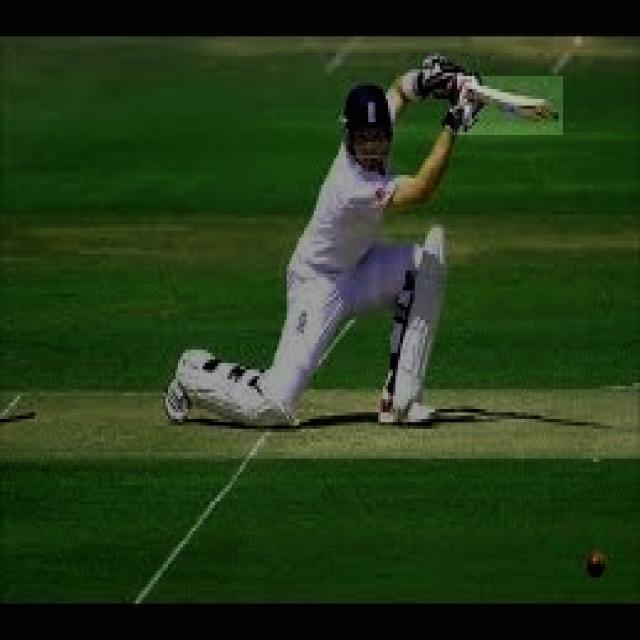bat: (456, 76, 565, 137)
toe: (536, 102, 560, 121)
